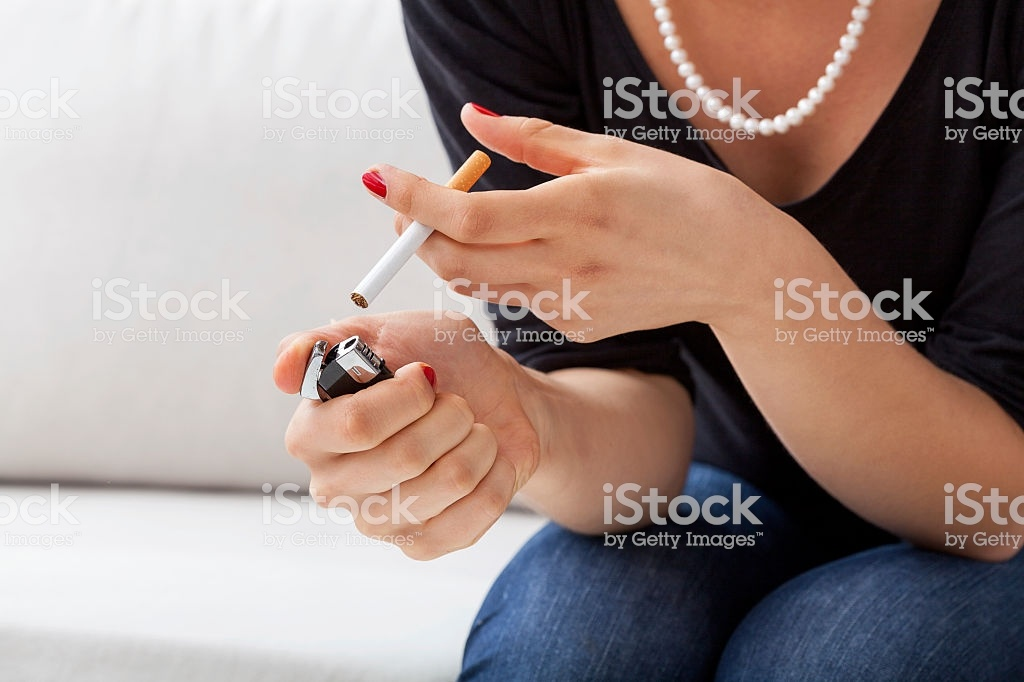sigaretta: (350, 149, 490, 311)
